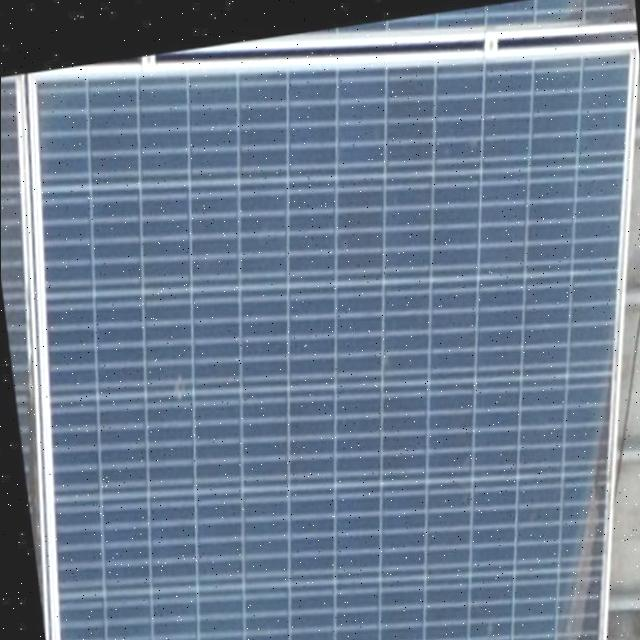Surface Contaminant: (0, 70, 58, 611), (545, 357, 609, 640), (563, 0, 637, 36), (157, 352, 193, 409)
